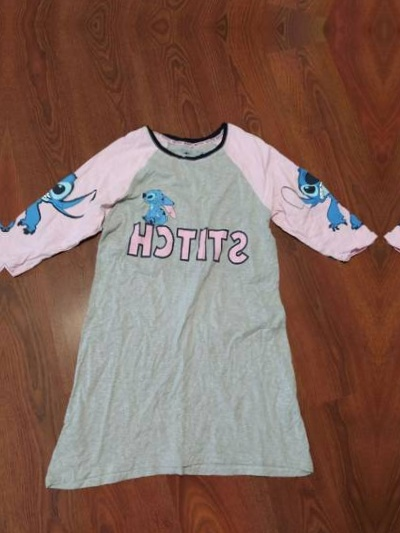Dress: (7, 109, 373, 507), (387, 116, 400, 514), (0, 103, 1, 500)
